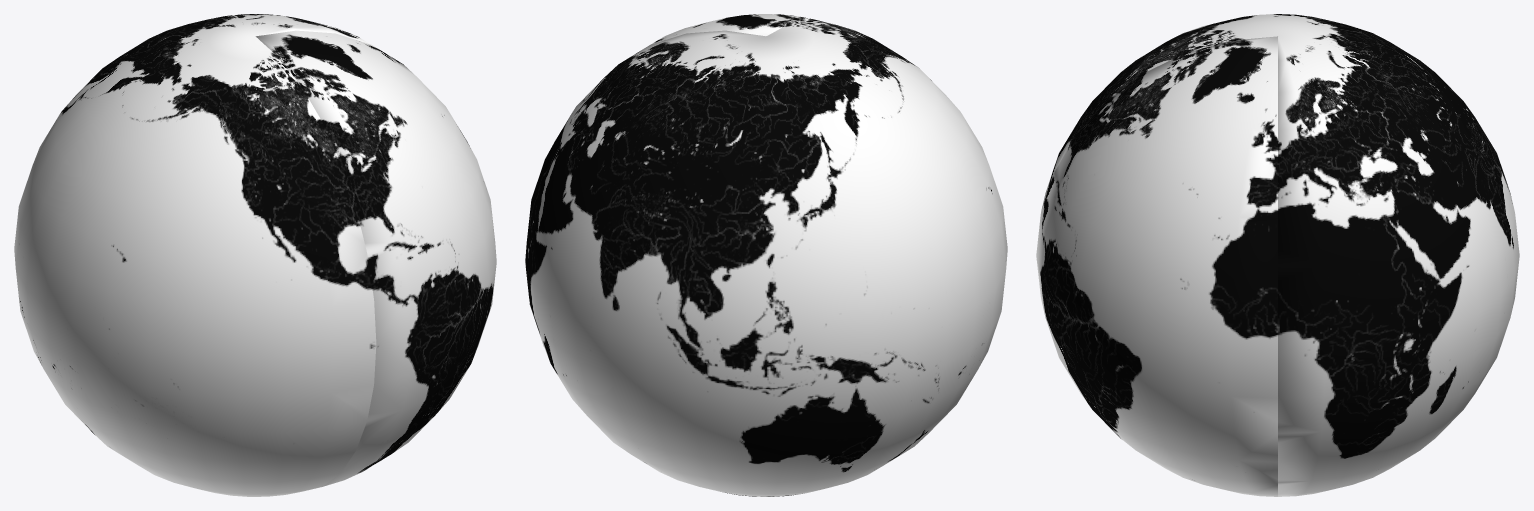
The model's file is saturn_animacja.glb.
3 views of the same model, side by side, from view 1: azimuth 30°, elevation 25°; view 2: azimuth 150°, elevation 25°; view 3: azimuth 270°, elevation 25° (orthographic).
Parts seen in each view (by area): view 1: Sphere, Sphere.003; view 2: Sphere, Sphere.003; view 3: Sphere, Sphere.003.
Part boxes in pixels (left/top/right/bottom): Sphere: left=14, top=14, right=376, bottom=496; Sphere.003: left=256, top=30, right=496, bottom=486; Sphere: left=525, top=19, right=1007, bottom=496; Sphere.003: left=651, top=14, right=812, bottom=44; Sphere: left=1041, top=14, right=1519, bottom=496; Sphere.003: left=1036, top=36, right=1277, bottom=496.
Size of the model in its own units: 2 by 2 by 2.
Materials: 5 (2 with a texture image).
